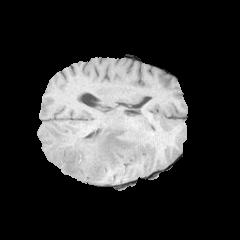glioma: (45, 125, 140, 181)
